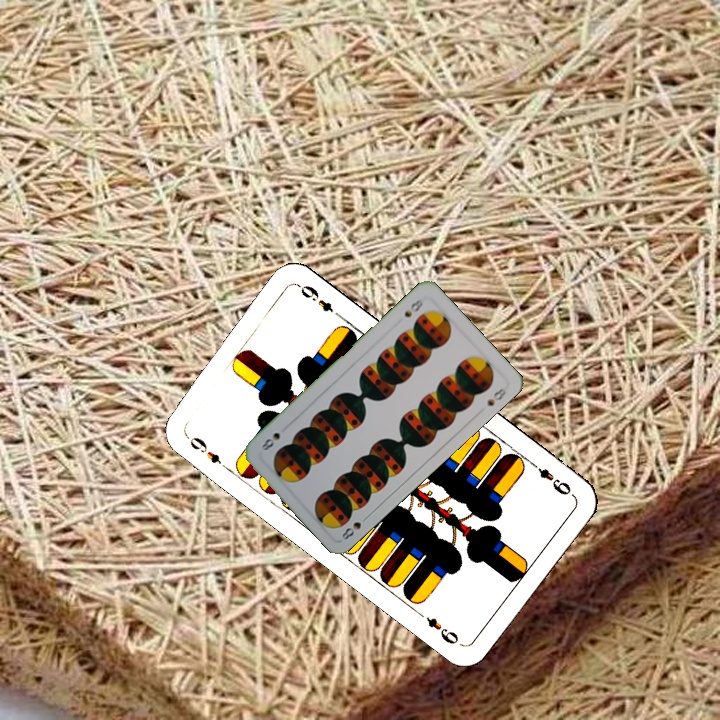E9: (526, 457, 574, 498), (181, 430, 225, 467)
S8: (337, 511, 372, 542), (400, 294, 426, 320)
